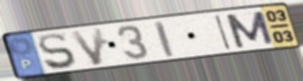3: (116, 23, 151, 62)
I: (152, 19, 177, 58), (213, 13, 233, 52)
M: (222, 9, 276, 49)
S: (37, 32, 79, 71)
V: (68, 26, 105, 68)
